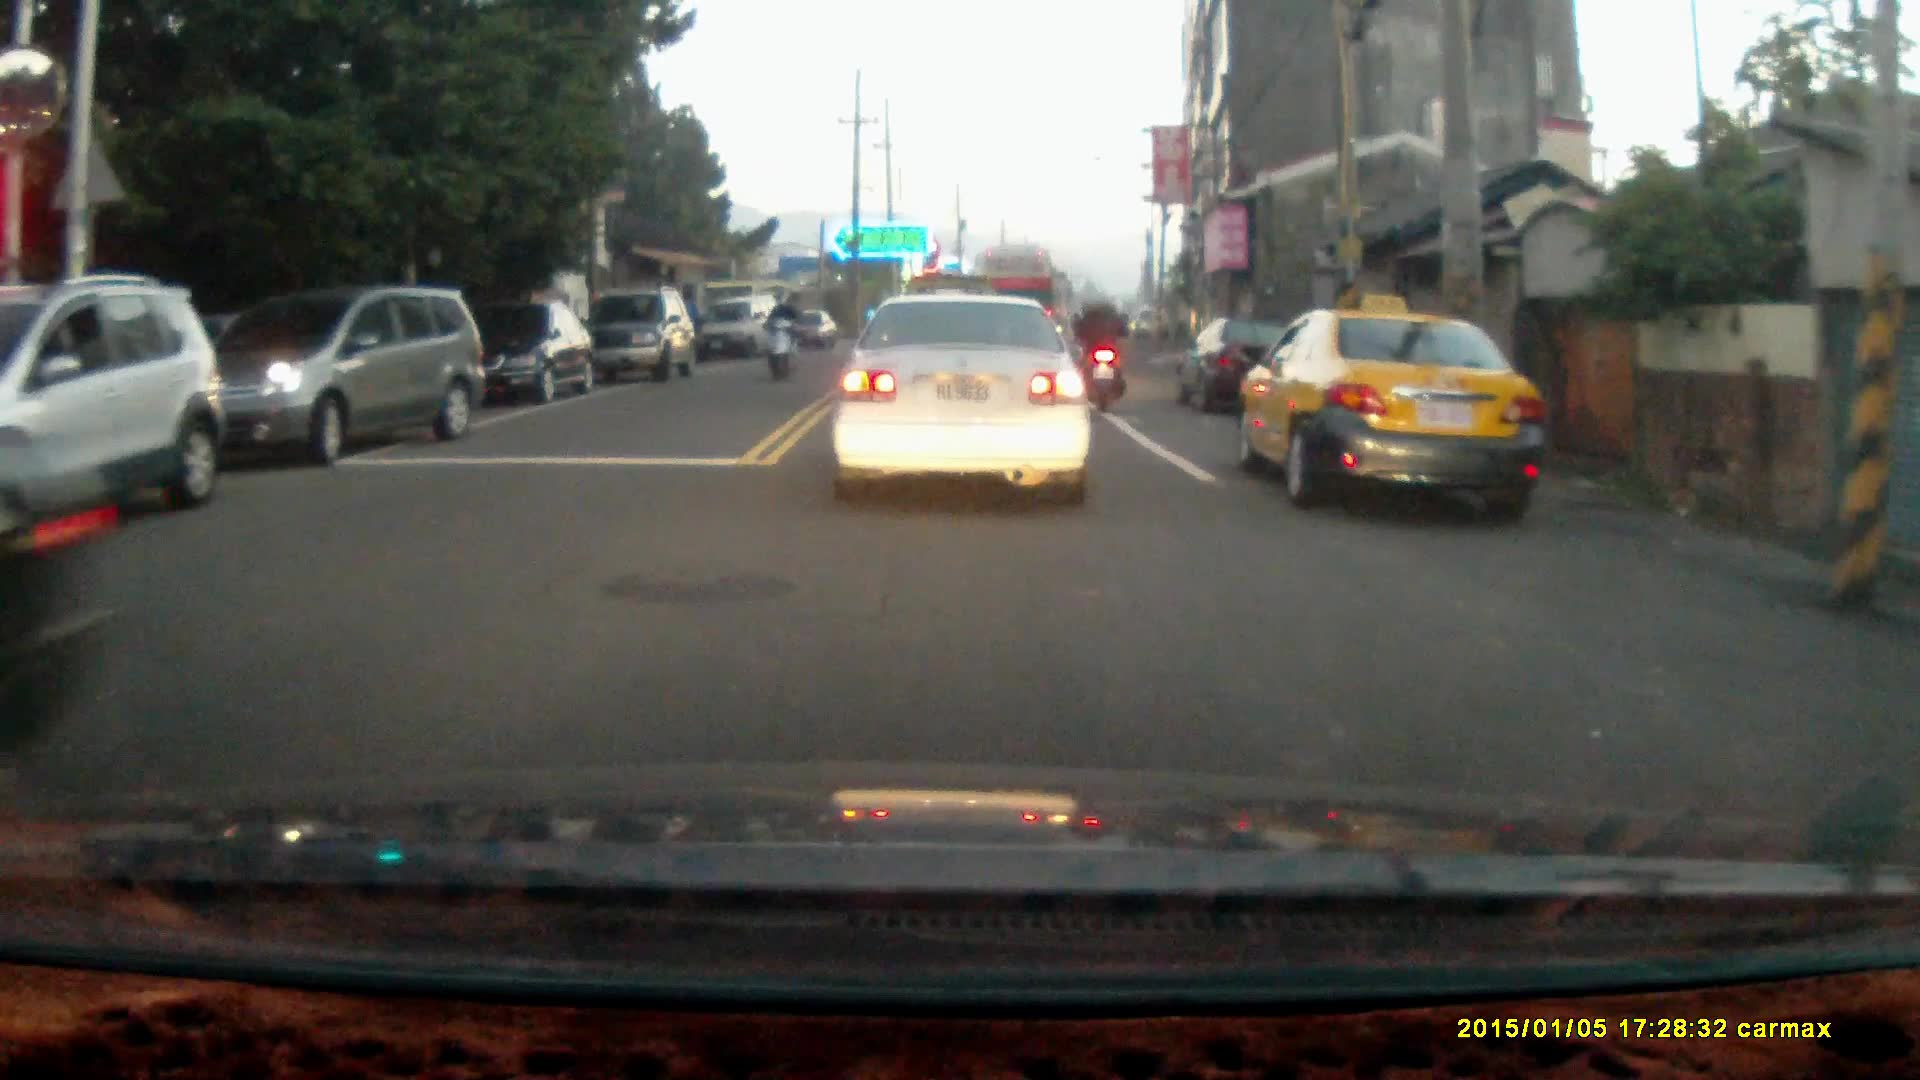rider: (1073, 285, 1132, 415), (761, 285, 797, 379)
vehicle: (1242, 307, 1549, 529), (1, 263, 230, 528), (830, 286, 1107, 500), (187, 279, 483, 463), (1, 436, 125, 789), (465, 296, 597, 404), (586, 281, 696, 377), (705, 288, 786, 358)
